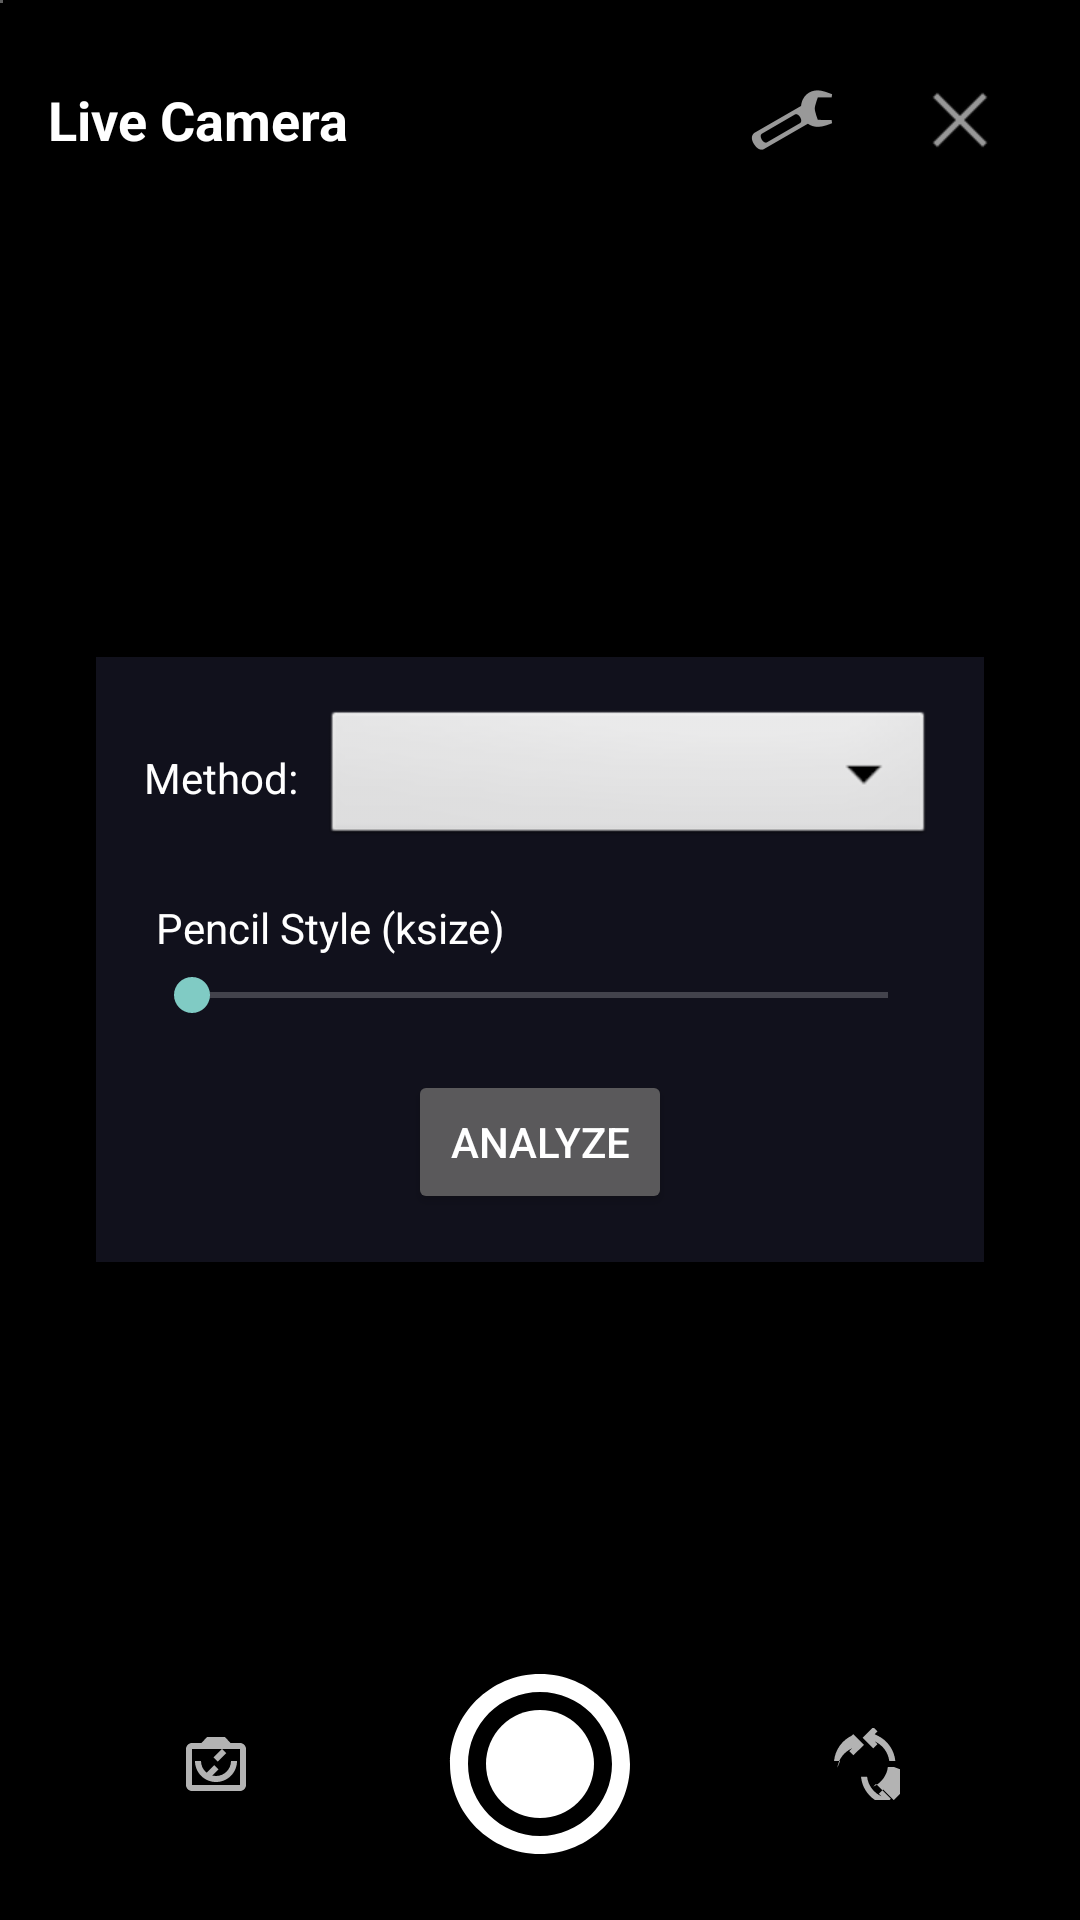

Where to tap for icons on this 1080*1920 app screen, as (x=x, y=y):
Capture: (x=539, y=1764)
Close: (x=960, y=120)
Settings: (x=792, y=120)
